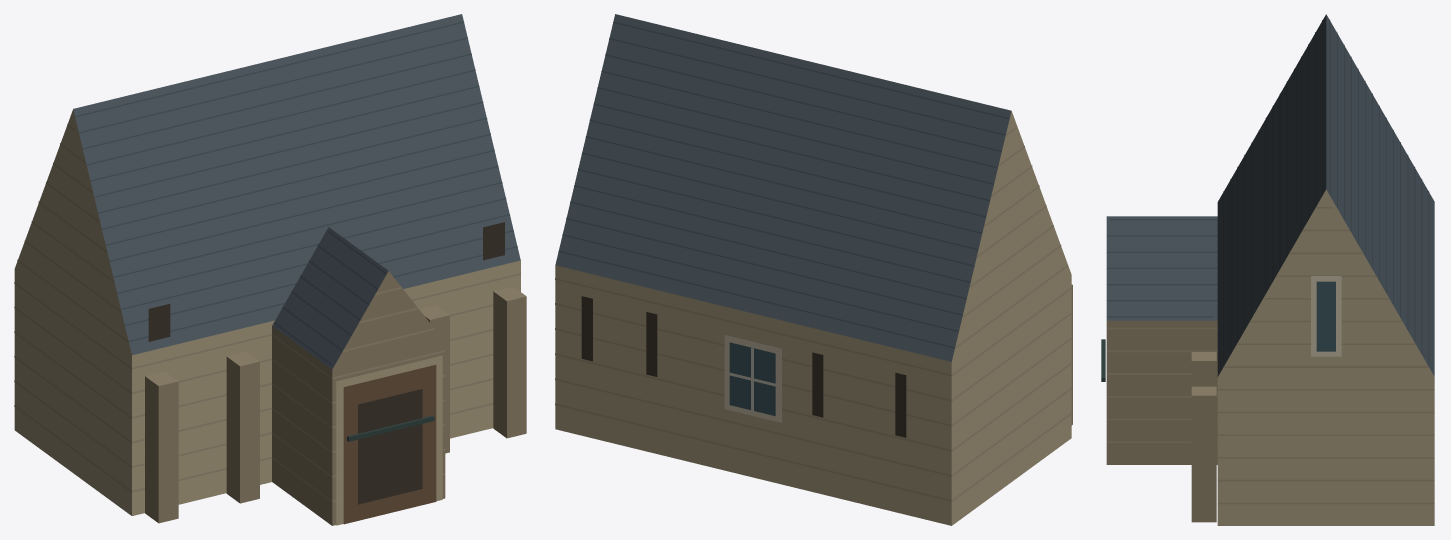
File: 07-great-tithe-barn.glb
The picture shows the model from 3 angles, left to right: view 1: azimuth 30°, elevation 25°; view 2: azimuth 150°, elevation 25°; view 3: azimuth 270°, elevation 25°; orthographic projection. The views are drawn at different scales.
Visible parts, largest first — view 1: Monastic great barn; view 2: Monastic great barn; view 3: Monastic great barn.
Boxes of the visible parts, x1=… form: Monastic great barn: x1=14, y1=14, x2=526, y2=525; Monastic great barn: x1=555, y1=14, x2=1072, y2=525; Monastic great barn: x1=1101, y1=14, x2=1434, y2=525.
Bounding box in the file's own units: 0.8637 × 0.77 × 0.6955.
